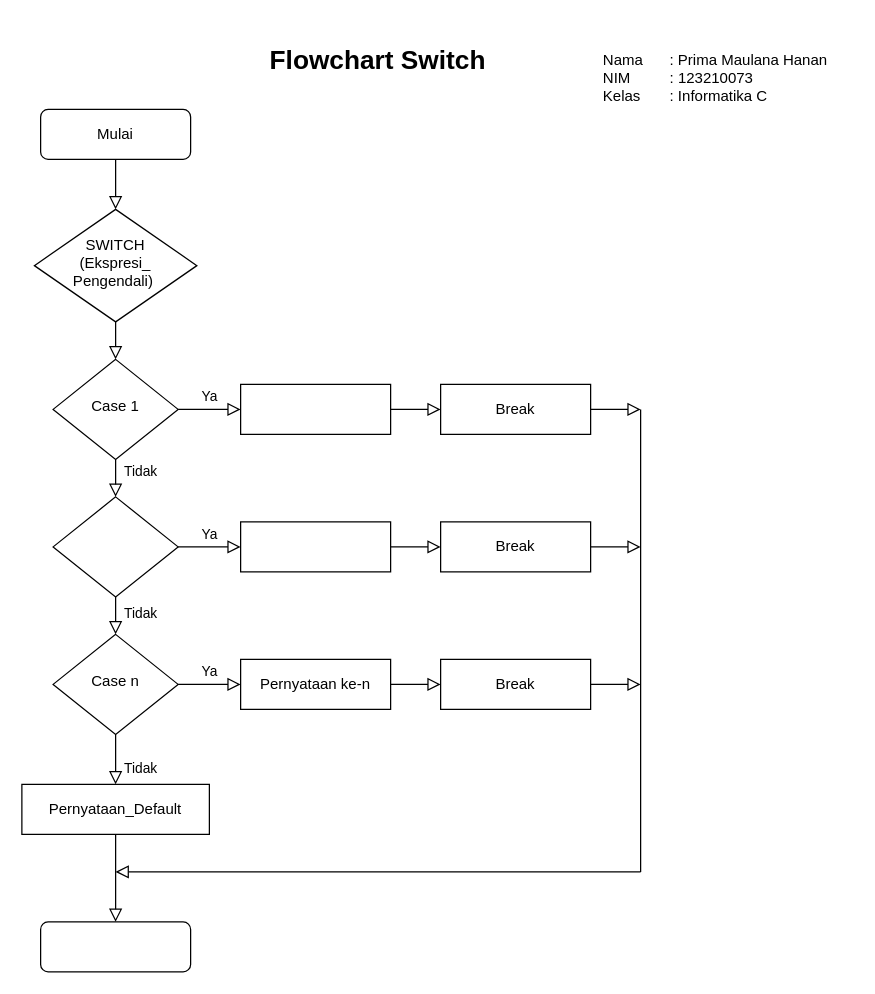
Image size: 875x994. Some labels were removed from this diagram. Each missing label, with the box of its shape:
Case 2: (52, 496, 178, 597)
Pernyataan ke-1: (239, 383, 391, 434)
Pernyataan ke-2: (239, 521, 391, 572)
Selesai: (39, 921, 191, 972)
